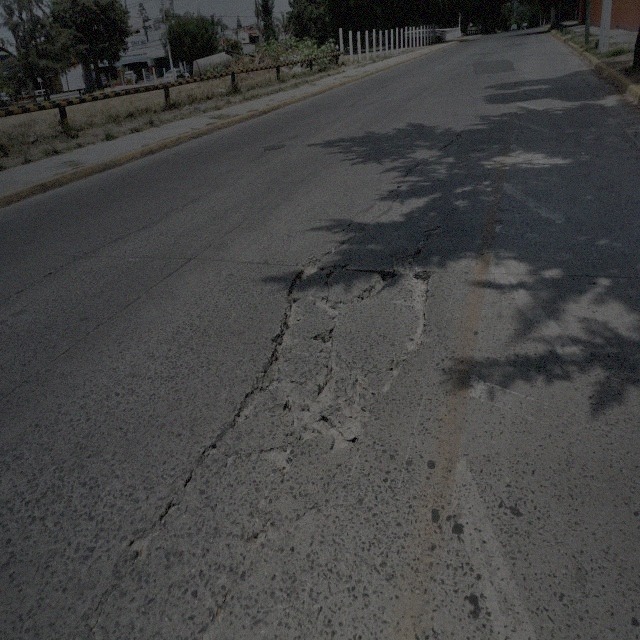pothole: (409, 271, 432, 339), (368, 267, 398, 299), (320, 334, 337, 390), (290, 260, 320, 290)
